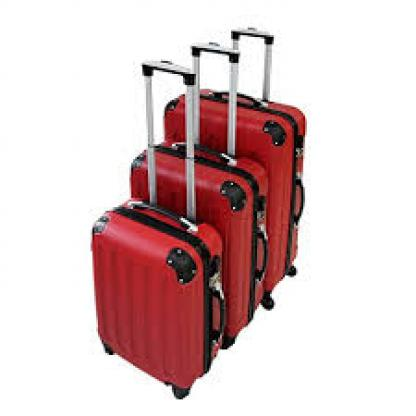maleta: (152, 74, 316, 312), (72, 198, 235, 408), (120, 135, 268, 351)
